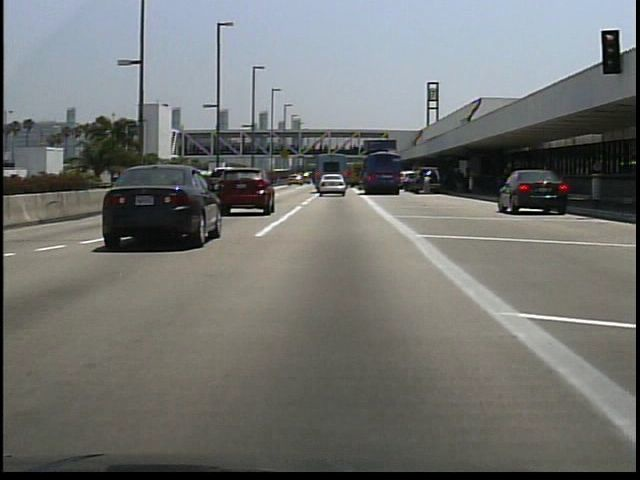person: (451, 165, 467, 199)
